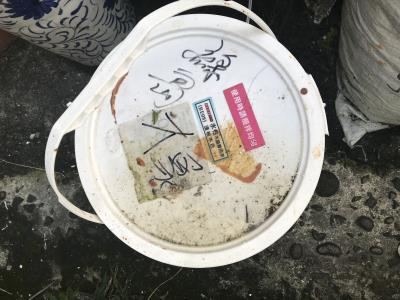bucket: (70, 13, 335, 272)
